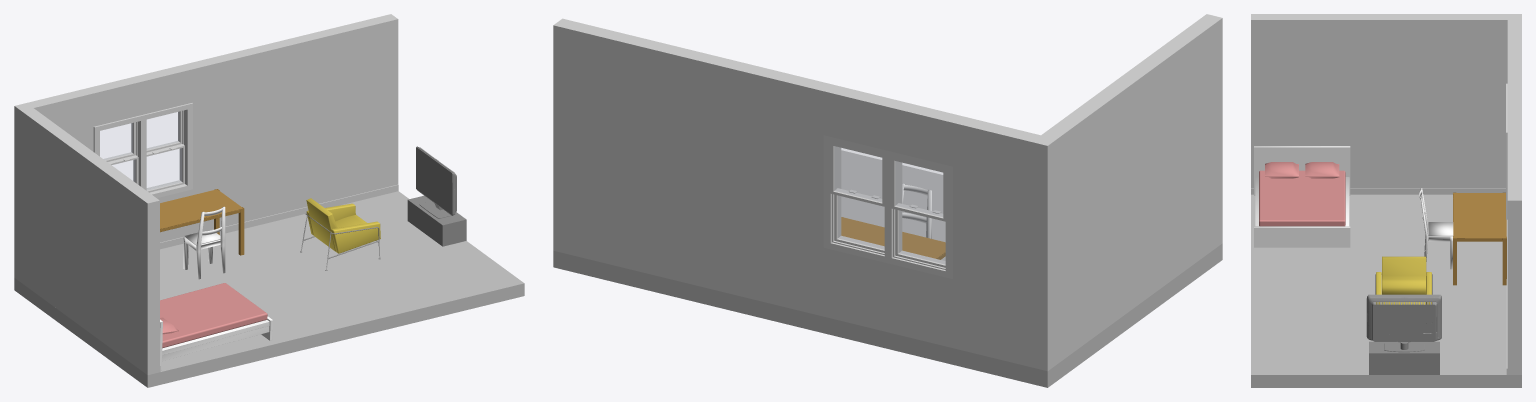
The model's file is L12_W20_furniture3_circulation3.glb.
3 views of the same model, side by side, from view 1: azimuth 30°, elevation 25°; view 2: azimuth 150°, elevation 25°; view 3: azimuth 270°, elevation 25° (orthographic). The views are drawn at different scales.
Bounding box in the file's own units: 248 × 116 × 152.
